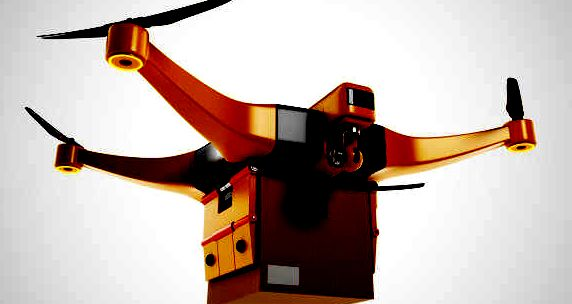Drone: (18, 2, 538, 196)
